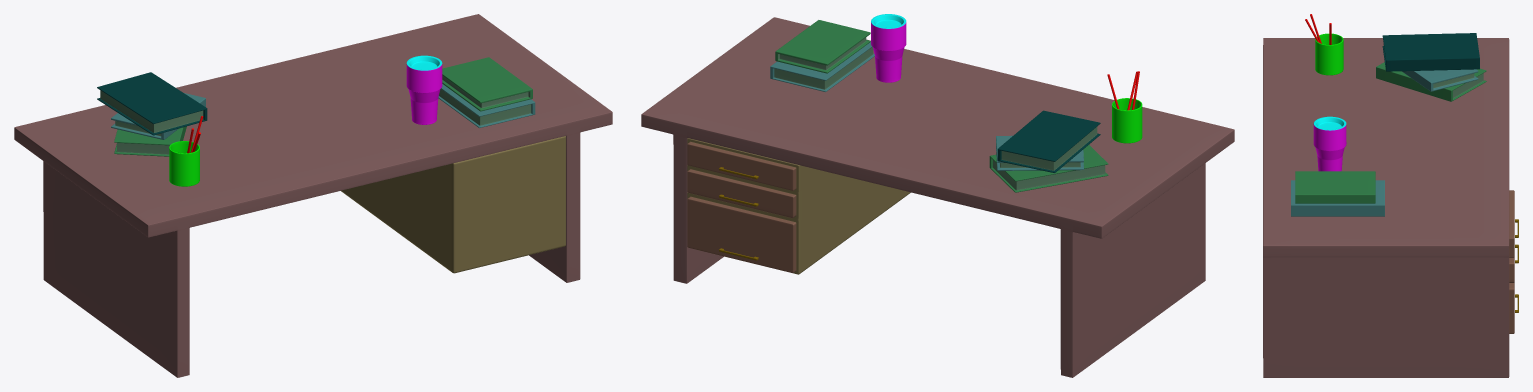
The model's file is TeachersTable.fbx.
The picture shows the model from 3 angles, left to right: view 1: azimuth 30°, elevation 25°; view 2: azimuth 150°, elevation 25°; view 3: azimuth 270°, elevation 25°; orthographic projection. The views are drawn at different scales.
Visible parts, largest first — view 1: TableMain_High, TableDrawer_High, TableBookLarge2_High (×2), TableBookMed_High, TableBookLarge_High (×2), Thermos_High, TableBookLarge1_High (×2), PenHolder_High, TableBookMed1_High; view 2: TableMain_High, TableDrawer_High (×2), TableBookLarge2_High (×2), TableBookMed_High, TableBookLarge1_High (×2), TableBookLarge_High (×2), Thermos_High, PenHolder_High, TableBookMed1_High; view 3: TableMain_High, TableBookLarge2_High, TableBookMed_High, TableBookLarge_High, Thermos_High (×2), TableBookLarge1_High (×2), PenHolder_High, TableBookMed1_High, TableDrawer_High.
Part boxes in pixels (left/top/right/bottom): TableMain_High: left=14, top=14, right=612, bottom=377; TableDrawer_High: left=341, top=136, right=565, bottom=273; TableBookLarge2_High (×2): left=97, top=72, right=207, bottom=135; TableBookMed_High: left=442, top=57, right=532, bottom=111; TableBookLarge_High (×2): left=438, top=84, right=535, bottom=127; Thermos_High: left=406, top=64, right=442, bottom=124; TableBookLarge1_High (×2): left=114, top=126, right=186, bottom=156; PenHolder_High: left=169, top=141, right=199, bottom=186; TableBookMed1_High: left=111, top=93, right=205, bottom=139; TableMain_High: left=641, top=17, right=1234, bottom=377; TableDrawer_High (×2): left=687, top=138, right=910, bottom=274; TableBookLarge2_High (×2): left=997, top=110, right=1100, bottom=172; TableBookMed_High: left=775, top=20, right=870, bottom=73; TableBookLarge1_High (×2): left=989, top=145, right=1108, bottom=192; TableBookLarge_High (×2): left=770, top=41, right=874, bottom=91; Thermos_High: left=871, top=22, right=906, bottom=82; PenHolder_High: left=1112, top=98, right=1142, bottom=143; TableBookMed1_High: left=996, top=135, right=1083, bottom=170; TableMain_High: left=1263, top=38, right=1509, bottom=377; TableBookLarge2_High: left=1382, top=33, right=1479, bottom=71; TableBookMed_High: left=1295, top=171, right=1375, bottom=203; TableBookLarge_High: left=1291, top=180, right=1384, bottom=216; Thermos_High (×2): left=1313, top=116, right=1346, bottom=171; TableBookLarge1_High (×2): left=1376, top=62, right=1486, bottom=101; PenHolder_High: left=1315, top=33, right=1343, bottom=75; TableBookMed1_High: left=1402, top=69, right=1478, bottom=91; TableDrawer_High: left=1509, top=190, right=1514, bottom=333.
Bounding box in the file's own units: 6.6 × 2.99 × 3.43.
